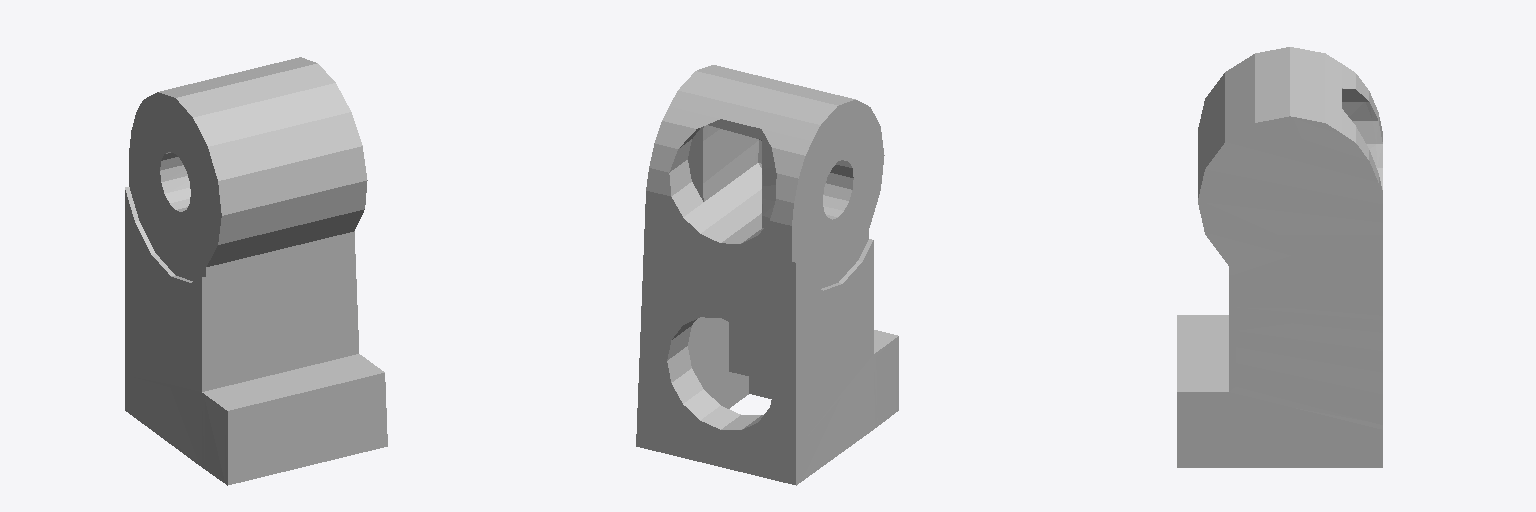
Rendered from lPie.obj.
3 renders of one model, left to right at view 1: azimuth 30°, elevation 25°; view 2: azimuth 150°, elevation 25°; view 3: azimuth 270°, elevation 25°, orthographic.
Visible parts, largest first — view 1: lPie2:pasted__pasted__lleg14pasted__pasted__legocharacter1pasted; view 2: lPie2:pasted__pasted__lleg14pasted__pasted__legocharacter1pasted; view 3: lPie2:pasted__pasted__lleg14pasted__pasted__legocharacter1pasted.
Part boxes in pixels (x1,y1,x2,y2): lPie2:pasted__pasted__lleg14pasted__pasted__legocharacter1pasted: (125,57,387,485); lPie2:pasted__pasted__lleg14pasted__pasted__legocharacter1pasted: (636,65,898,485); lPie2:pasted__pasted__lleg14pasted__pasted__legocharacter1pasted: (1177,47,1382,467).
Bounding box in the file's own units: 1.12 × 2.3 × 1.24.